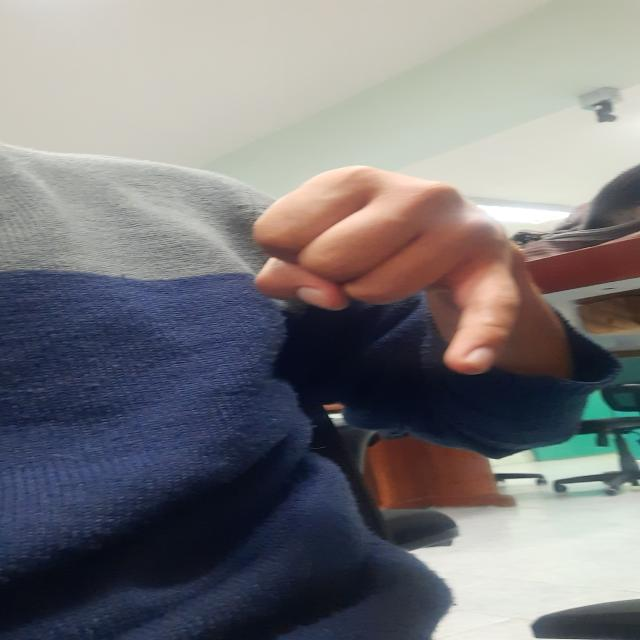J: (227, 163, 558, 384)
